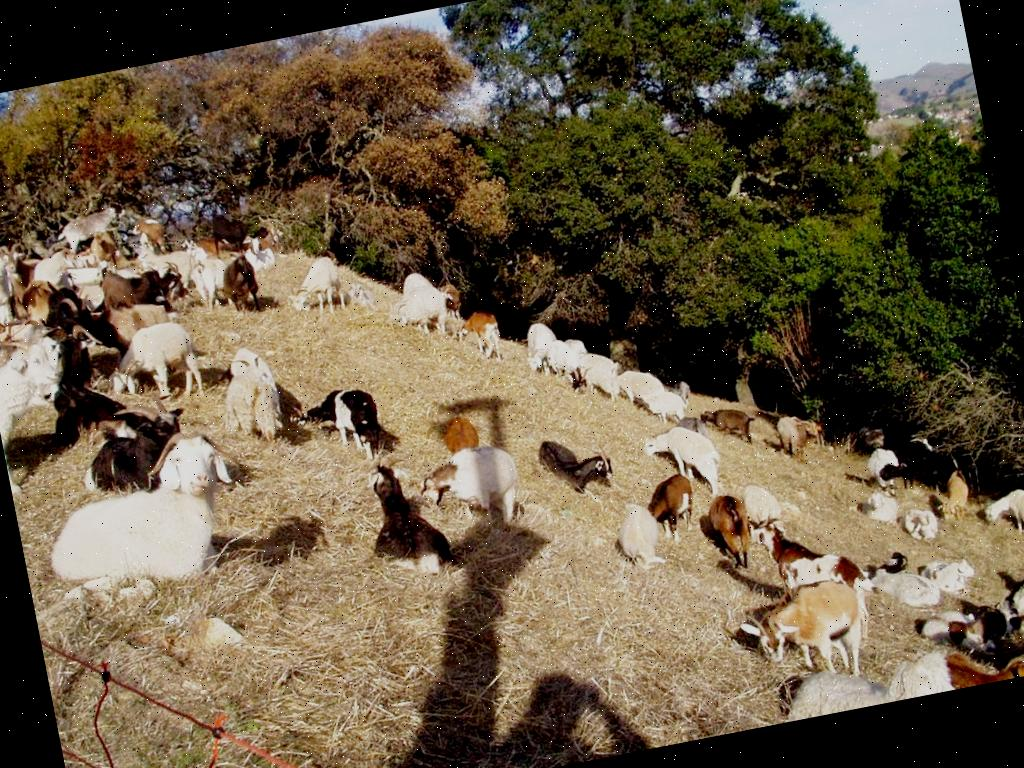Sheep: (32, 430, 250, 608), (0, 329, 87, 496), (98, 313, 212, 412), (640, 416, 732, 505), (608, 496, 668, 576), (979, 482, 1024, 557), (732, 475, 787, 532), (859, 486, 903, 534), (900, 502, 944, 550)
